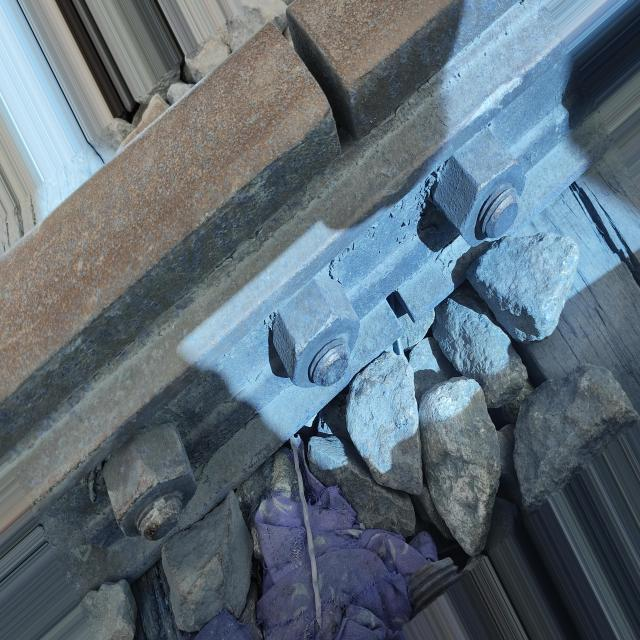crack: (227, 0, 409, 175)
